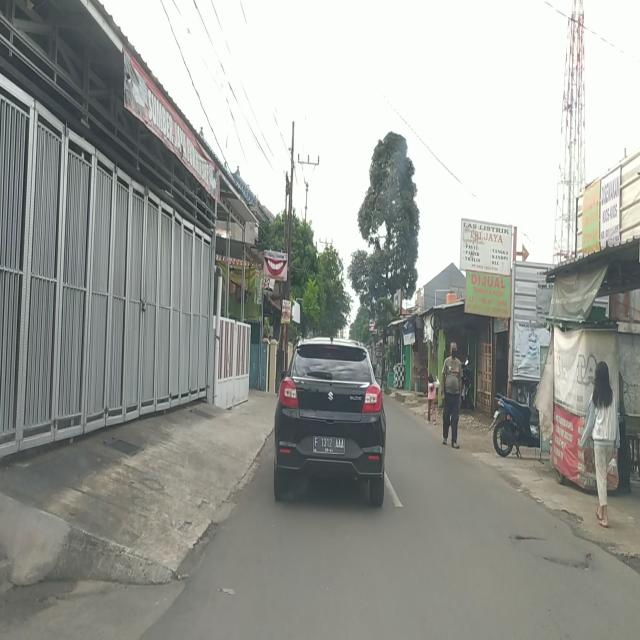Sewer Cover: (539, 549, 594, 571), (513, 530, 545, 544)
